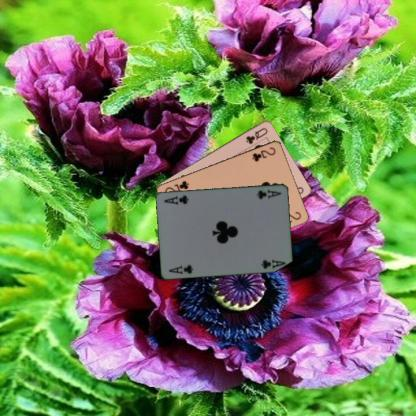2c: (249, 145, 276, 162)
Ac: (166, 262, 195, 276), (254, 186, 282, 200)
Qc: (243, 125, 269, 145)
